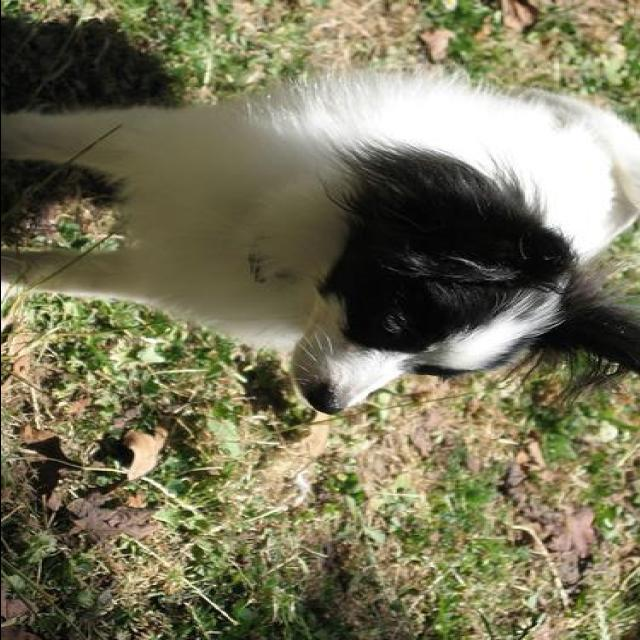papillon: (2, 71, 640, 415)
